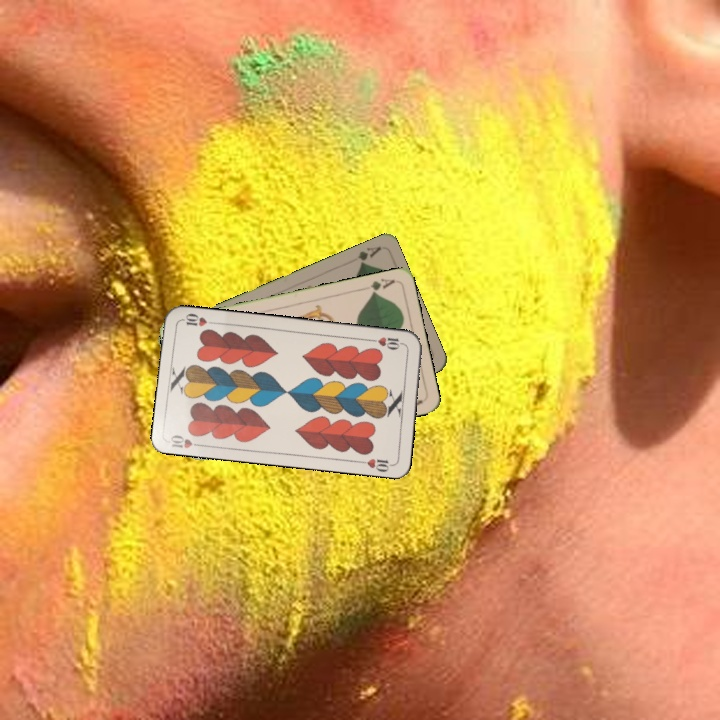GA: (353, 243, 383, 268), (366, 275, 398, 297)
H10: (166, 431, 206, 451), (366, 333, 407, 352)
